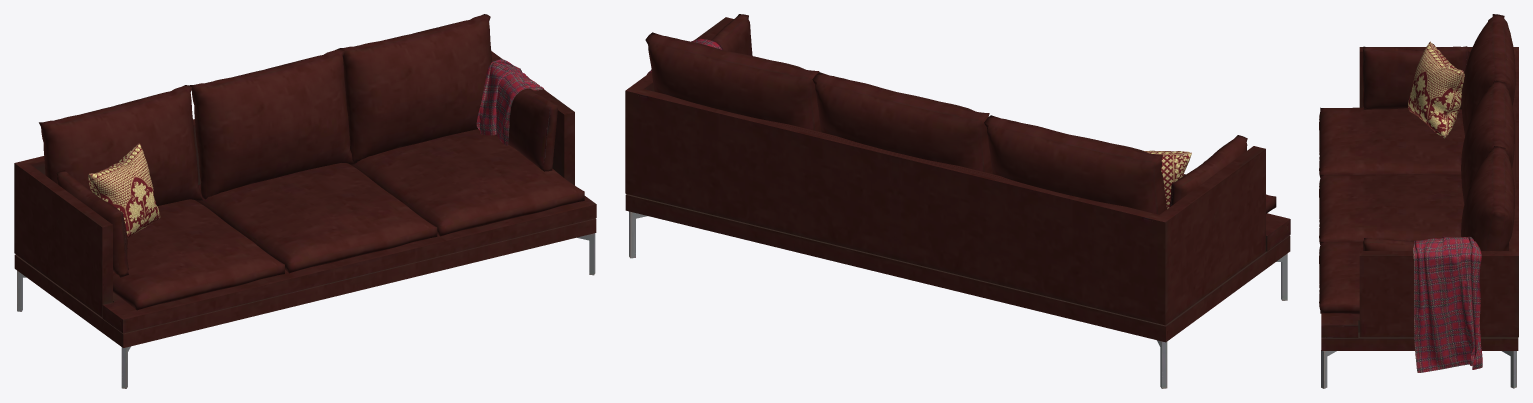
The model's file is sofa_couch_spatialneglect.glb.
3 views of the same model, side by side, from view 1: azimuth 30°, elevation 25°; view 2: azimuth 150°, elevation 25°; view 3: azimuth 270°, elevation 25° (orthographic). The views are drawn at different scales.
Parts seen in each view (by area): view 1: couch_Couch_0, couch_blanket_0; view 2: couch_Couch_0, couch_blanket_0; view 3: couch_Couch_0, couch_blanket_0.
Boxes of the visible parts, bbox=[...] form: couch_Couch_0: bbox=[14, 14, 596, 388]; couch_blanket_0: bbox=[88, 59, 544, 238]; couch_Couch_0: bbox=[625, 14, 1290, 388]; couch_blanket_0: bbox=[647, 38, 1191, 208]; couch_Couch_0: bbox=[1319, 14, 1518, 388]; couch_blanket_0: bbox=[1408, 41, 1482, 372].
Bounding box in the file's own units: 307 × 115 × 120.
Materials: 2 (2 with a texture image).
